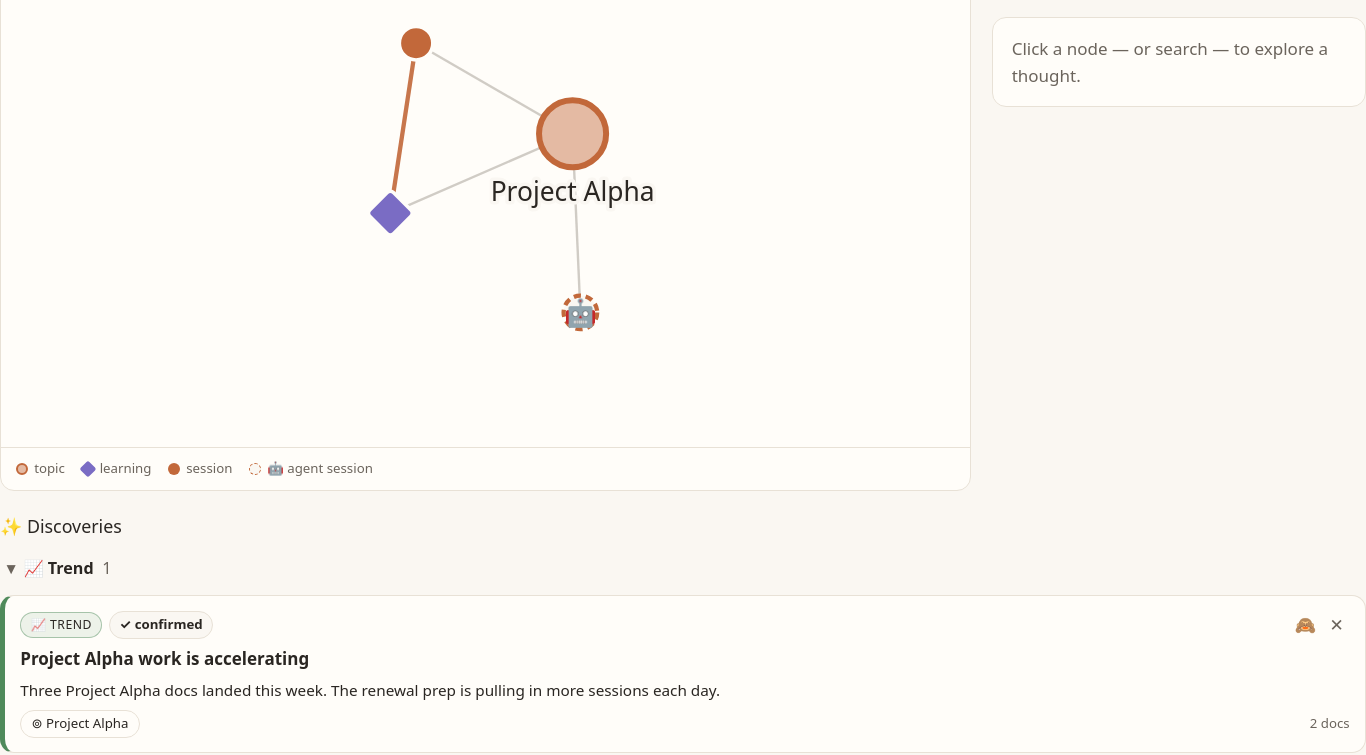
BrainView discoveries › re-verifies from the expanded card, optimistically showing running
(page scrolled)
What coordinates should you click on to do the following:
click the button "Project Alpha work is accelerating"
I would click on:
 (165, 658)
Its box is 20,648 -> 1350,671.
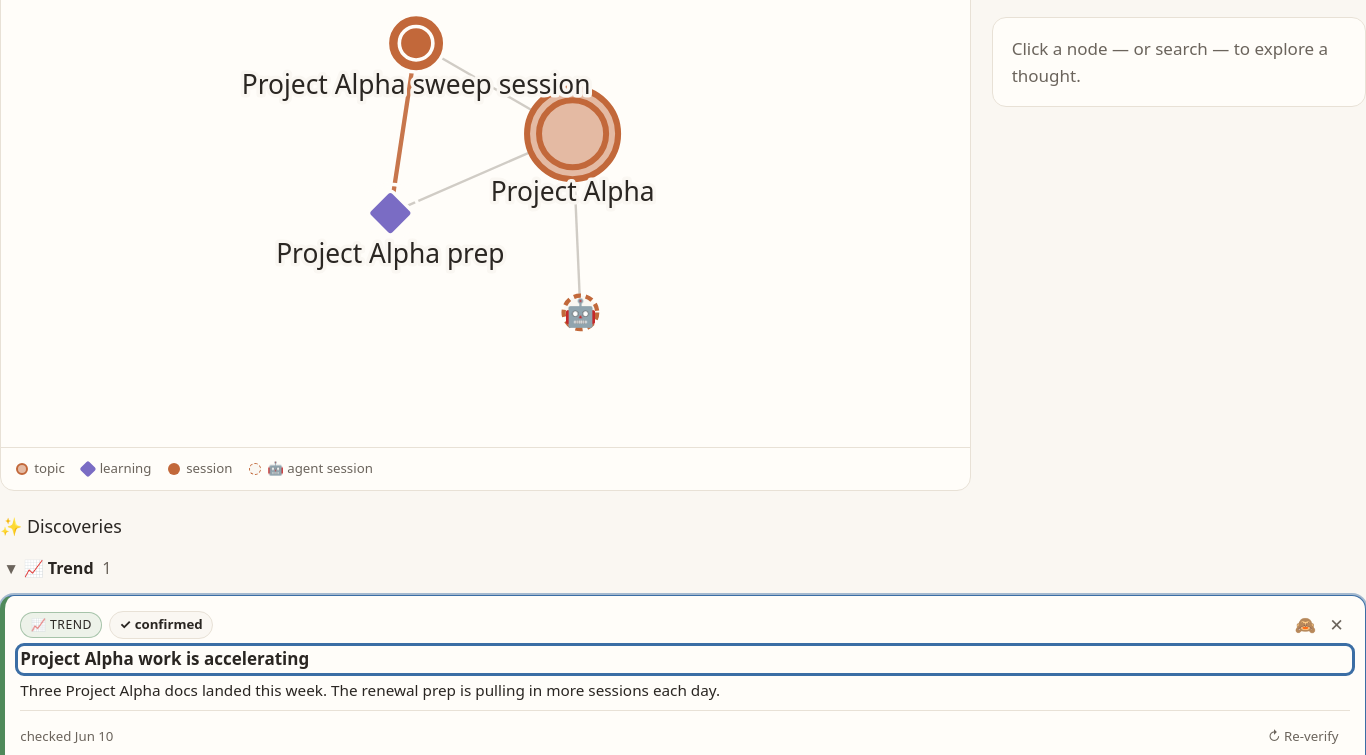
What coordinates should you click on to do the following:
click the button "↻ Re-verify"
I would click on:
 (1303, 736)
Its box is 1257,721 -> 1350,752.
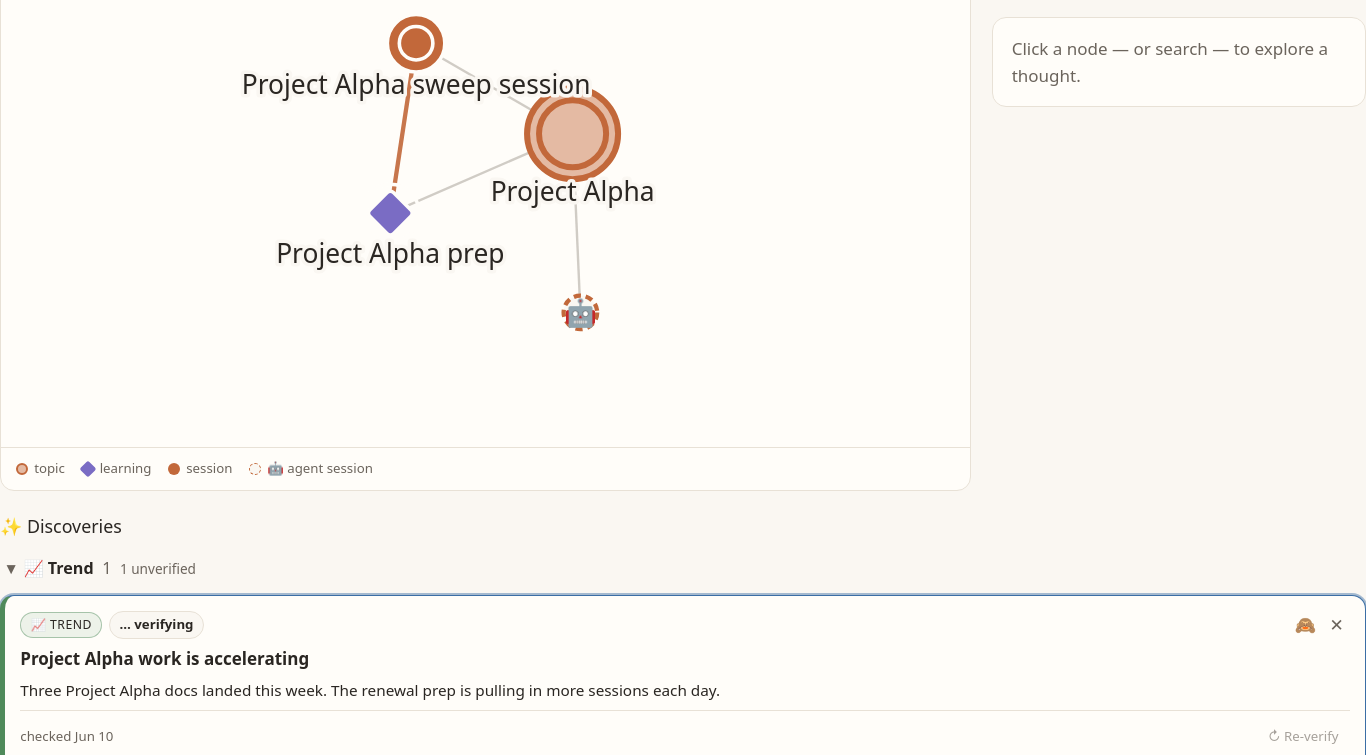
Now the text "… verifying" is shown, box 109,611 -> 204,639
Now the button "↻ Re-verify" is disabled, box 1257,721 -> 1350,752
